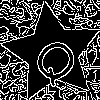Q: (27, 28, 90, 90)
